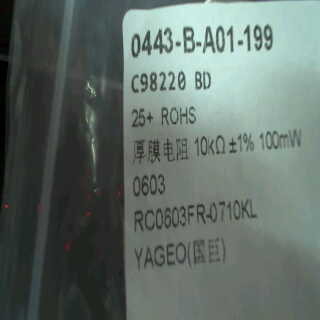10kR: (193, 131, 226, 160)
